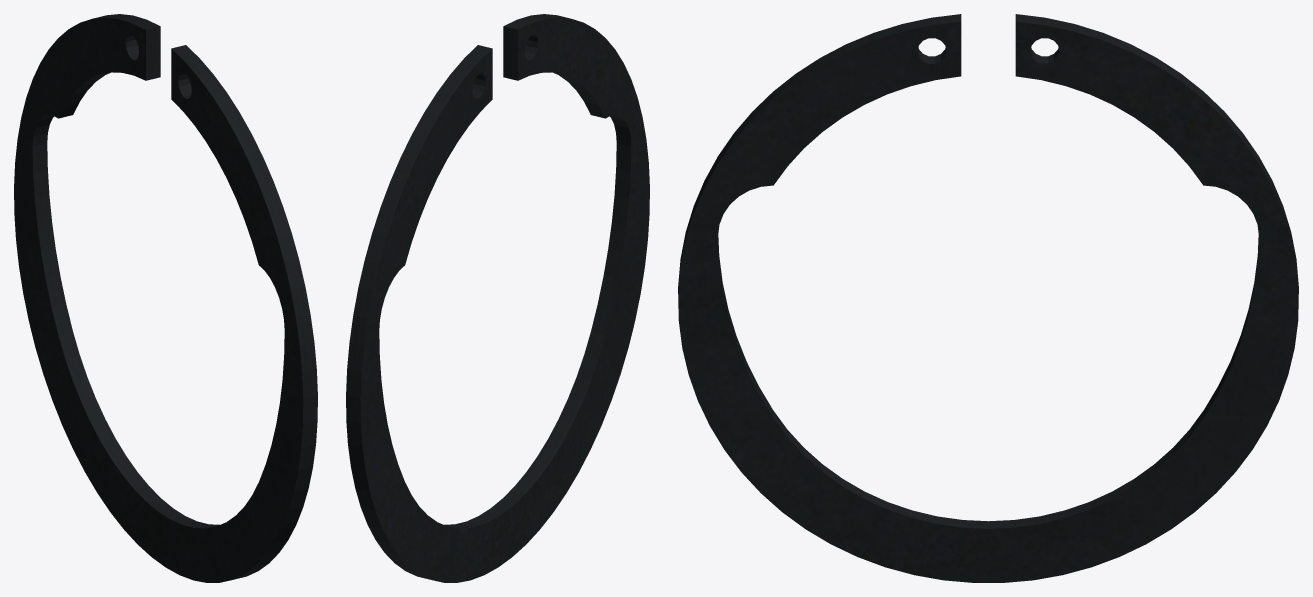
File: Handguard_Slip_Ring_Retaining_Ring.dae
The picture shows the model from 3 angles, left to right: view 1: azimuth 30°, elevation 25°; view 2: azimuth 150°, elevation 25°; view 3: azimuth 270°, elevation 25°; orthographic projection. The views are drawn at different scales.
Visible parts, largest first — view 1: Handguard_Slip_Ring_Retaining_Ring; view 2: Handguard_Slip_Ring_Retaining_Ring; view 3: Handguard_Slip_Ring_Retaining_Ring.
Part boxes in pixels (box(x1,y1,x2,y2)): Handguard_Slip_Ring_Retaining_Ring: box(14, 14, 317, 582); Handguard_Slip_Ring_Retaining_Ring: box(346, 14, 649, 582); Handguard_Slip_Ring_Retaining_Ring: box(678, 14, 1298, 582).
Size of the model in its own units: 0.00124 by 0.0422 by 0.0421.
1 material, 1 textured.
